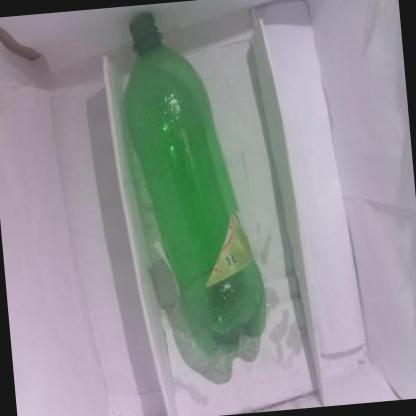plastic_bottles: (106, 0, 275, 362)
